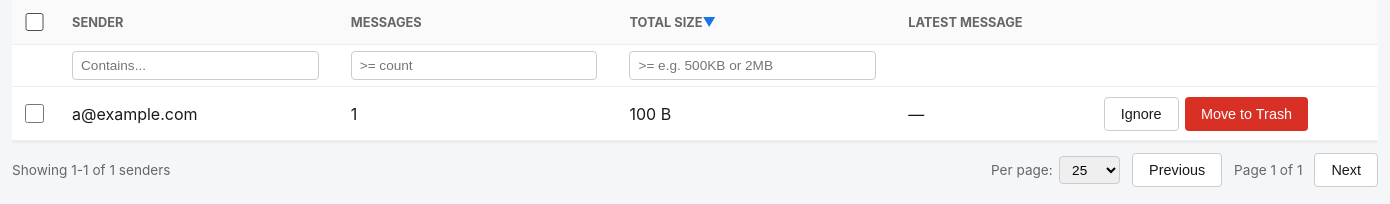
Test: Move to Trash › shows a working state while trashing and disables both action buttons
Click the button "Move to Trash": (1246, 114) [1185, 97, 1308, 131]
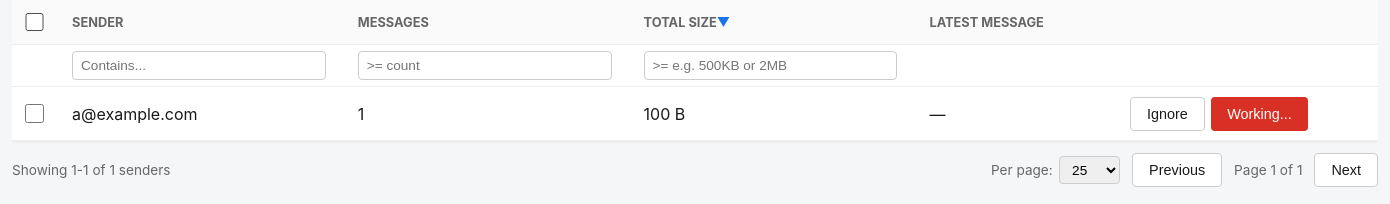
Expected: the button "Ignore" is disabled, [1130, 97, 1205, 131]
Expected: the button "Working..." is disabled, [1211, 97, 1308, 131]
